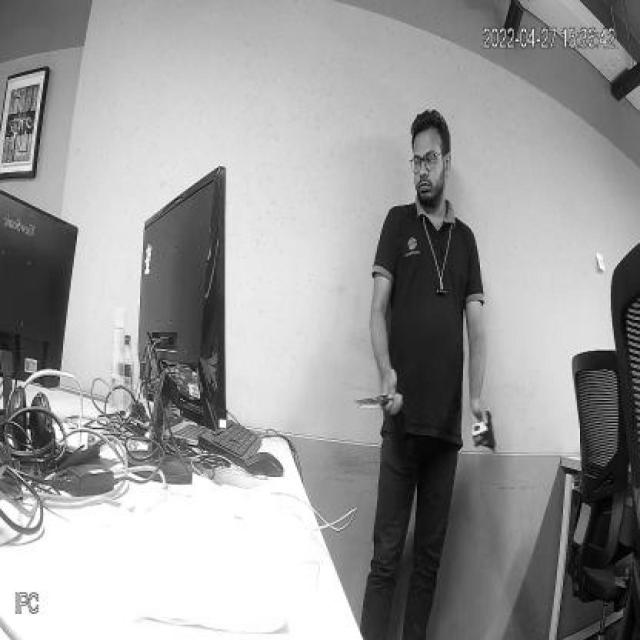weapon: (471, 407, 500, 453)
